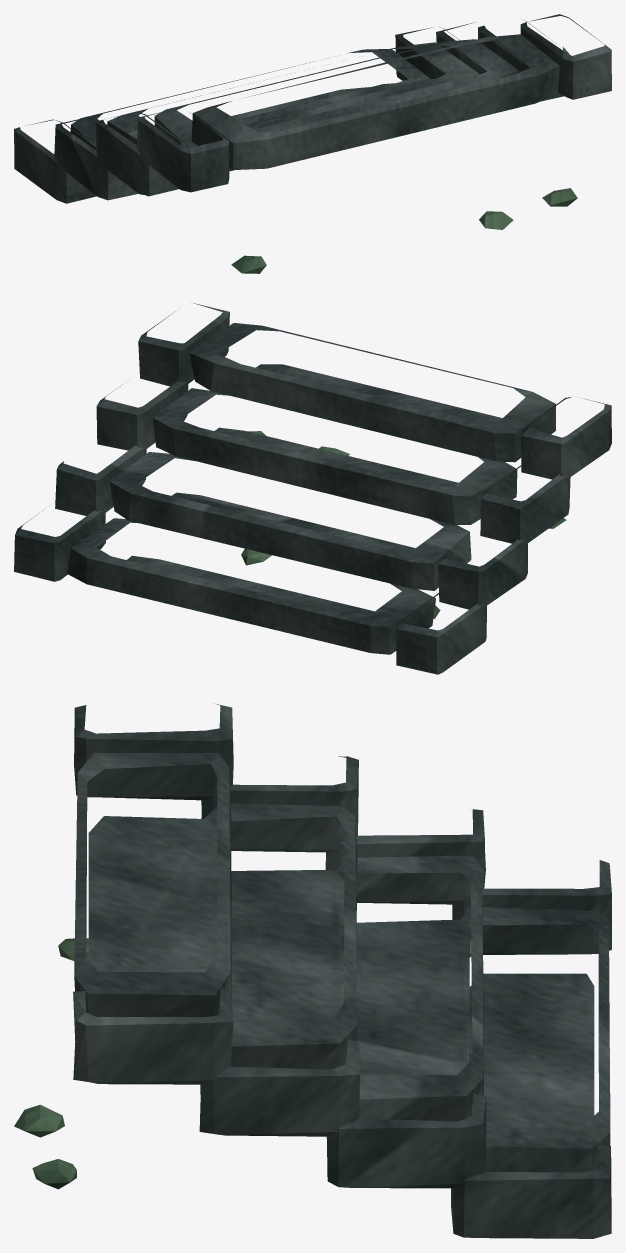
The model's file is 0360_stairs_10.glb.
3 renders of one model, top to bottom at view 1: azimuth 30°, elevation 25°; view 2: azimuth 150°, elevation 25°; view 3: azimuth 270°, elevation 25°, orthographic. The views are drawn at different scales.
Parts seen in each view (by area): view 1: stone_dark, moss; view 2: stone_dark, moss; view 3: stone_dark, moss.
Boxes of the visible parts, x1=… form: stone_dark: x1=14, y1=14, x2=611, y2=203; moss: x1=231, y1=188, x2=577, y2=273; stone_dark: x1=14, y1=303, x2=611, y2=674; moss: x1=241, y1=431, x2=566, y2=618; stone_dark: x1=73, y1=703, x2=611, y2=1238; moss: x1=14, y1=938, x2=471, y2=1189.
Size of the model in its own units: 2.63 by 0.8712 by 2.09.
2 materials, 2 textured.
